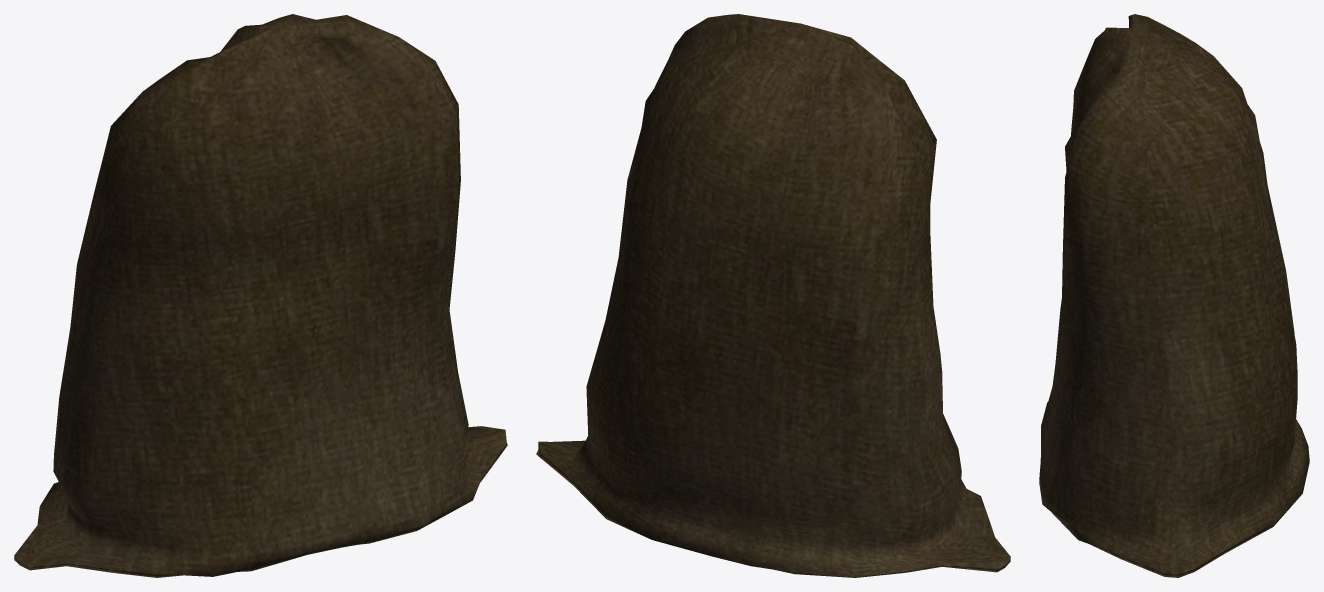
File: Sack01.fbx
3 views of the same model, side by side, from view 1: azimuth 30°, elevation 25°; view 2: azimuth 150°, elevation 25°; view 3: azimuth 270°, elevation 25° (orthographic). The views are drawn at different scales.
Visible parts, largest first — view 1: Sack01; view 2: Sack01; view 3: Sack01.
Part boxes in pixels (bbox=[...]): Sack01: bbox=[14, 14, 507, 577]; Sack01: bbox=[536, 14, 1010, 577]; Sack01: bbox=[1039, 14, 1309, 577].
Bounding box in the file's own units: 52.24 × 50.92 × 27.98.
